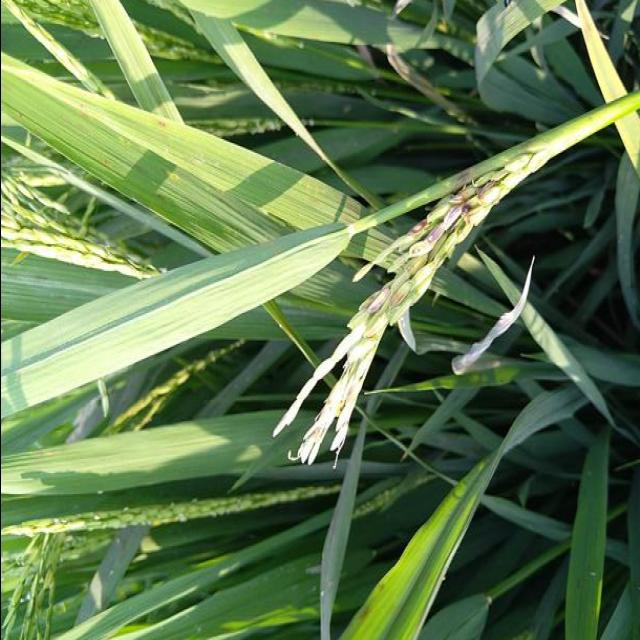Panicle Blight: (426, 192, 465, 243), (367, 284, 390, 312), (478, 187, 498, 204), (390, 286, 406, 307), (409, 219, 426, 236), (461, 202, 472, 225)
